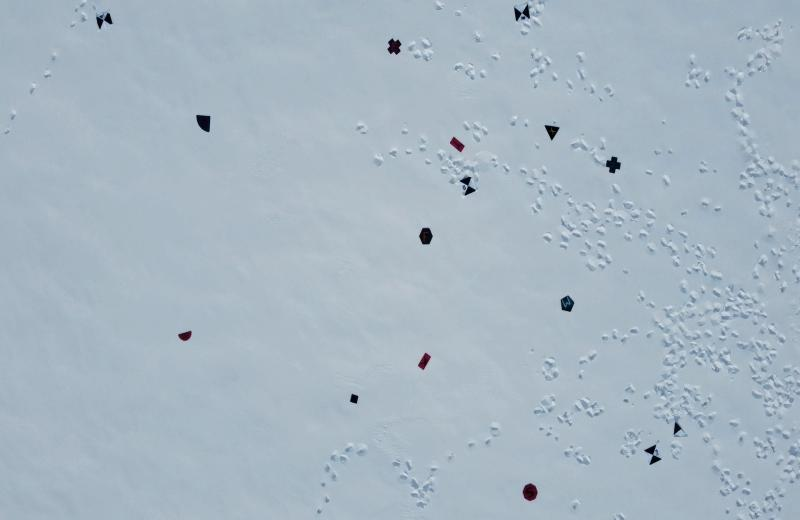Cross: (606, 155, 622, 176), (386, 38, 402, 58)
Hexagon: (419, 226, 433, 245)
Octagon: (523, 483, 539, 502)
Pentagon: (558, 296, 576, 314)
Quarter Circle: (195, 115, 213, 133)
Rectangle: (418, 351, 432, 372), (450, 136, 466, 154)
Semi Circle: (178, 330, 192, 342)
Square: (350, 394, 359, 404)
Triangle: (543, 122, 561, 140)
